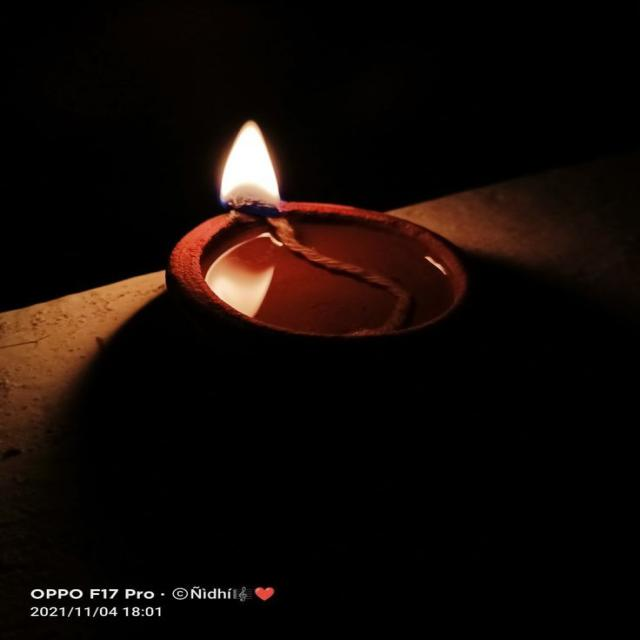fire: (219, 119, 285, 208)
